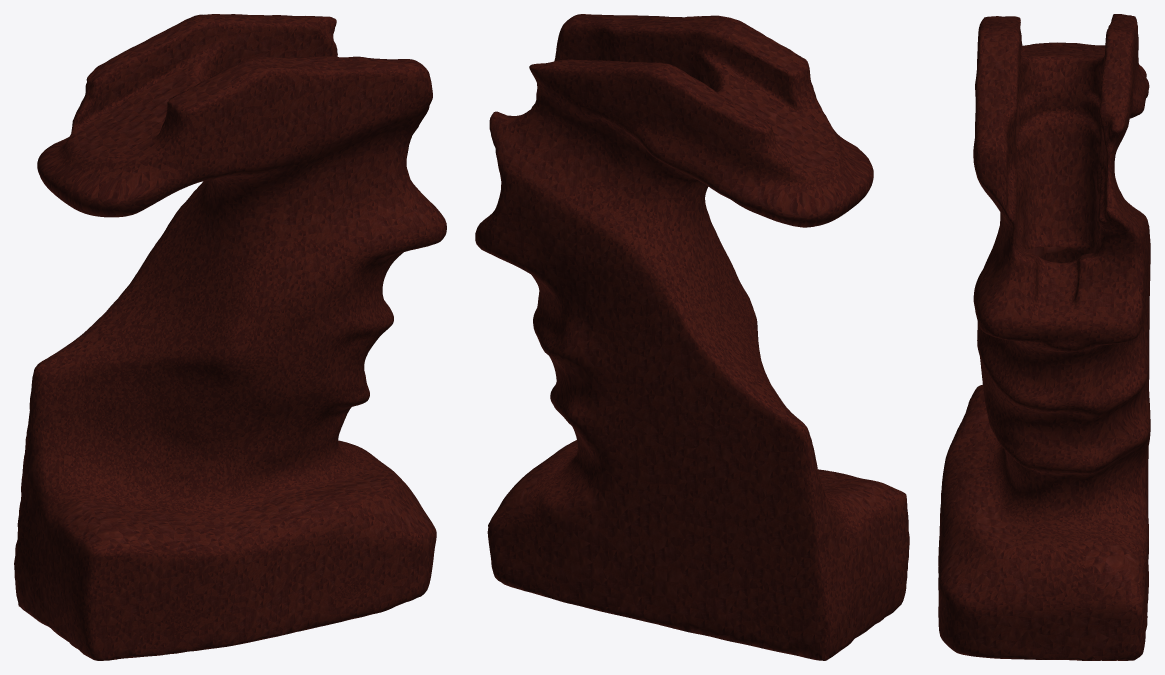
Rendered from grip.glb.
3 views of the same model, side by side, from view 1: azimuth 30°, elevation 25°; view 2: azimuth 150°, elevation 25°; view 3: azimuth 270°, elevation 25° (orthographic).
Visible parts, largest first — view 1: mmGroup0; view 2: mmGroup0; view 3: mmGroup0.
Boxes of the visible parts, box(x1,y1,x2,y2) form: mmGroup0: box(14, 14, 446, 660); mmGroup0: box(475, 14, 909, 660); mmGroup0: box(938, 14, 1150, 660).
Bounding box in the file's own units: 10.23 × 14.6 × 5.1.
Materials: 1 (1 with a texture image).
